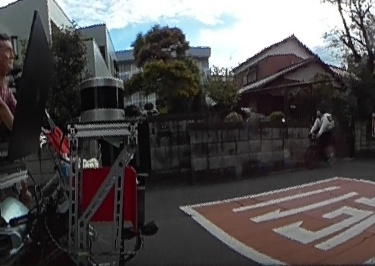person: (307, 105, 334, 165)
